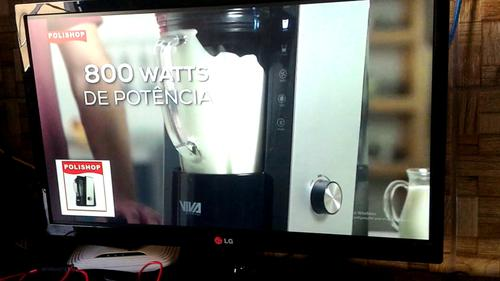Polishop #1: (55, 159, 115, 217)
